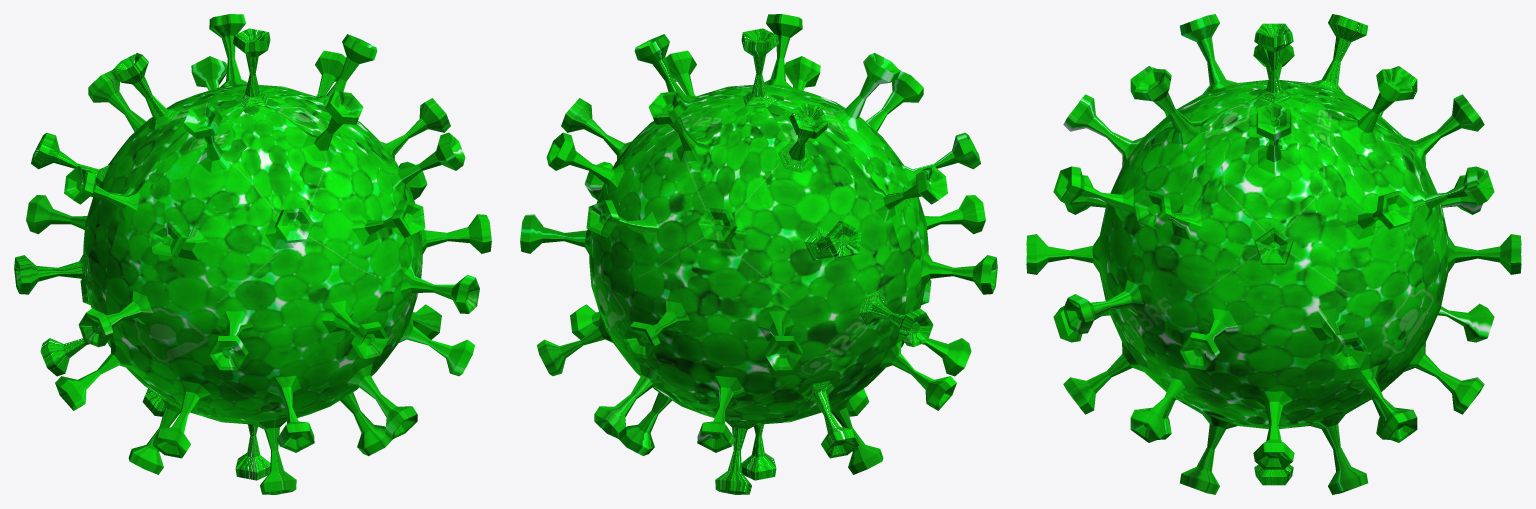
The model's file is virus.obj.
3 renders of one model, left to right at view 1: azimuth 30°, elevation 25°; view 2: azimuth 150°, elevation 25°; view 3: azimuth 270°, elevation 25°, orthographic. The views are drawn at different scales.
Visible parts, largest first — view 1: GeoSphere001; view 2: GeoSphere001; view 3: GeoSphere001.
Part boxes in pixels (x1,y1,x2,y2): GeoSphere001: [14, 14, 491, 494]; GeoSphere001: [520, 14, 997, 494]; GeoSphere001: [1026, 14, 1521, 494].
Bounding box in the file's own units: 3.37 × 3.47 × 3.47.
